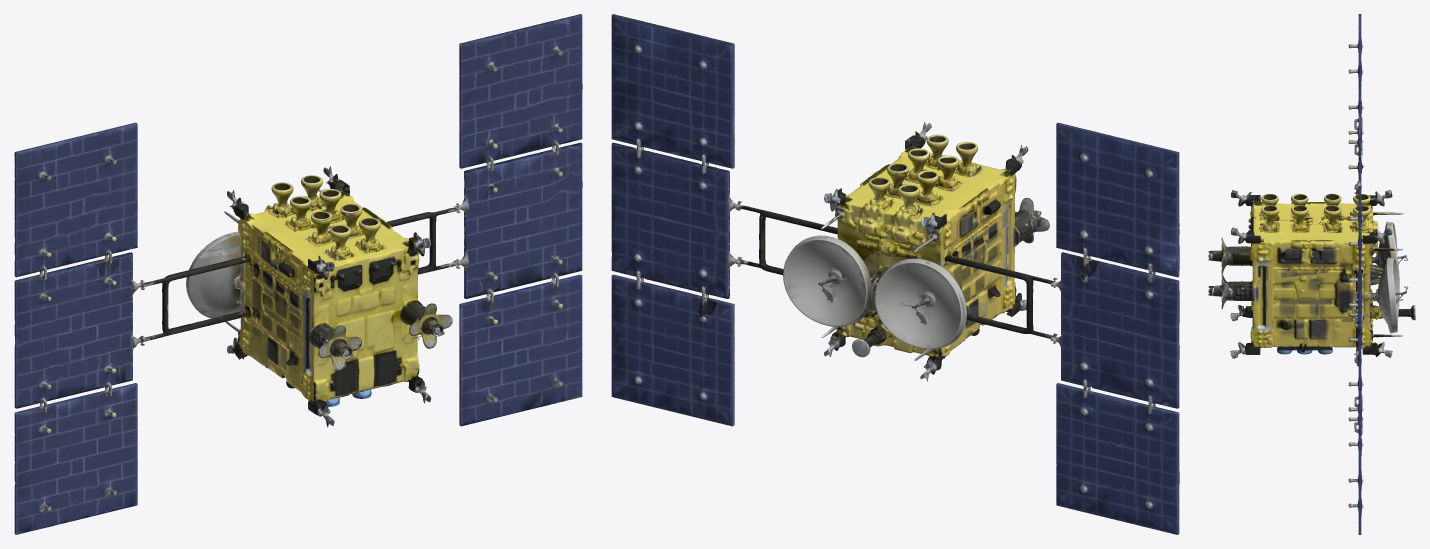
Rendered from hayabusa2.glb.
3 renders of one model, left to right at view 1: azimuth 30°, elevation 25°; view 2: azimuth 150°, elevation 25°; view 3: azimuth 270°, elevation 25°, orthographic. The views are drawn at different scales.
Bounding box in the file's own units: 1.9 × 1.22 × 0.7606.
1 material, 1 textured.
